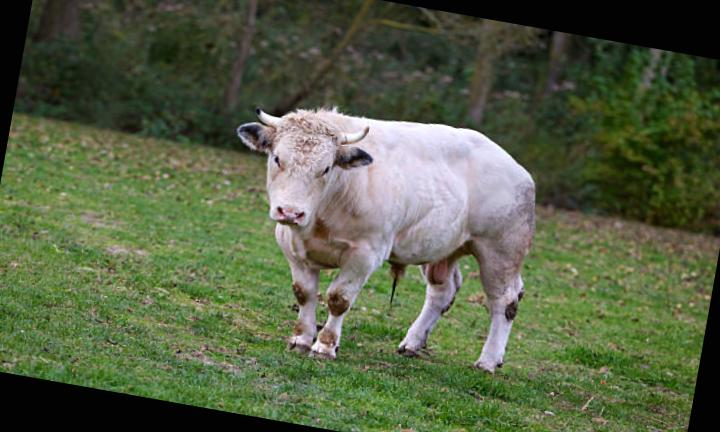Charolais: (239, 110, 535, 370)
